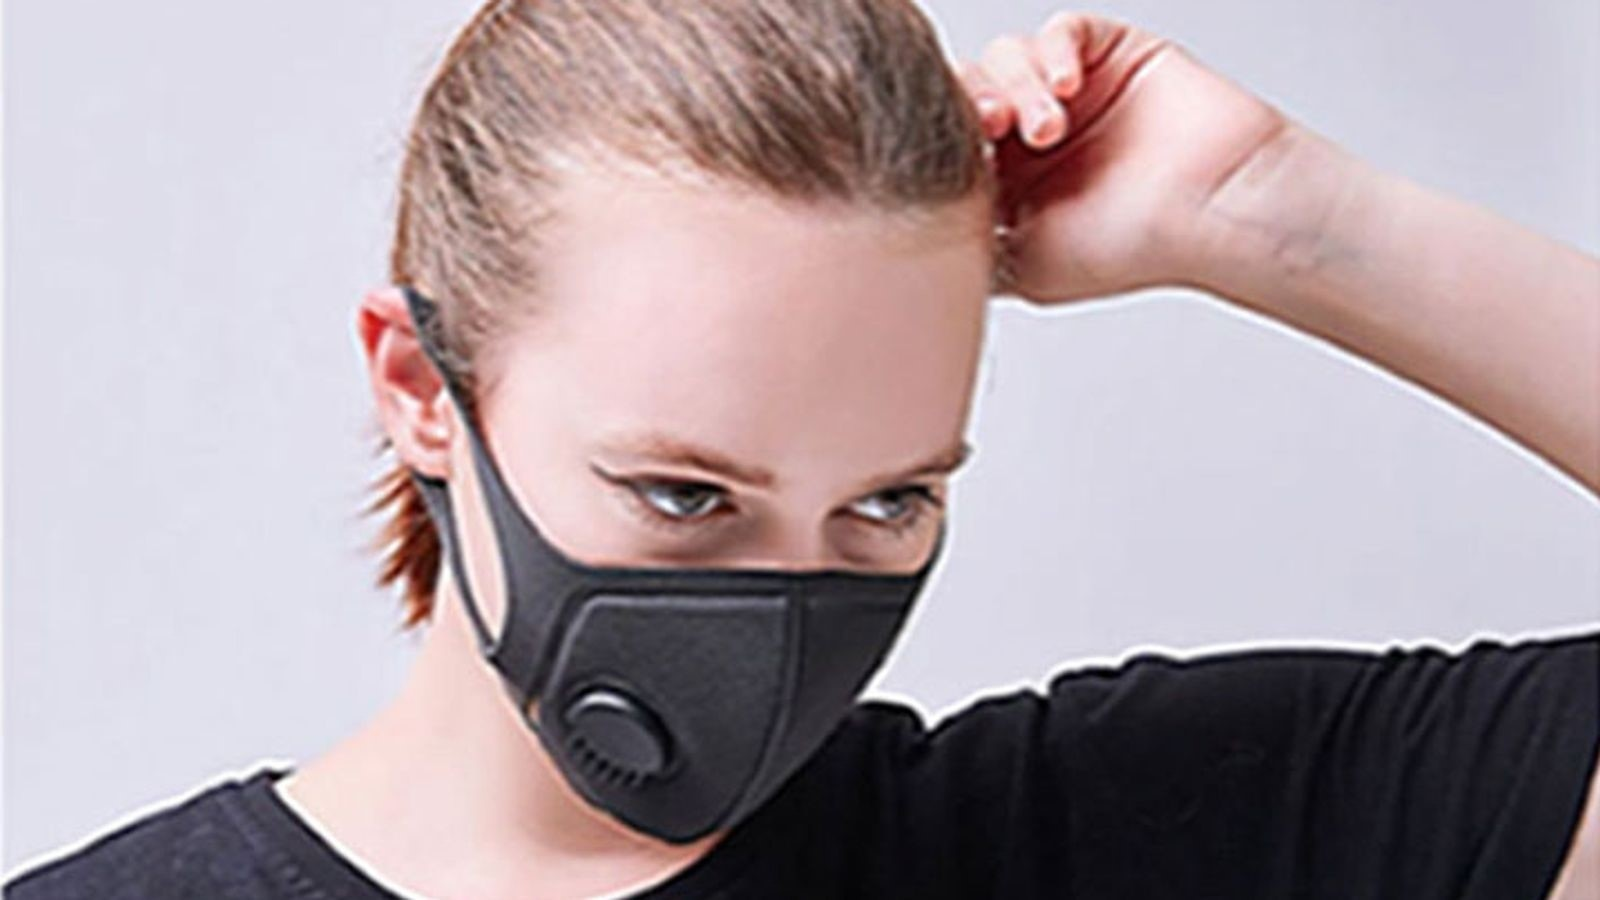face_with_mask: (386, 0, 1000, 841)
